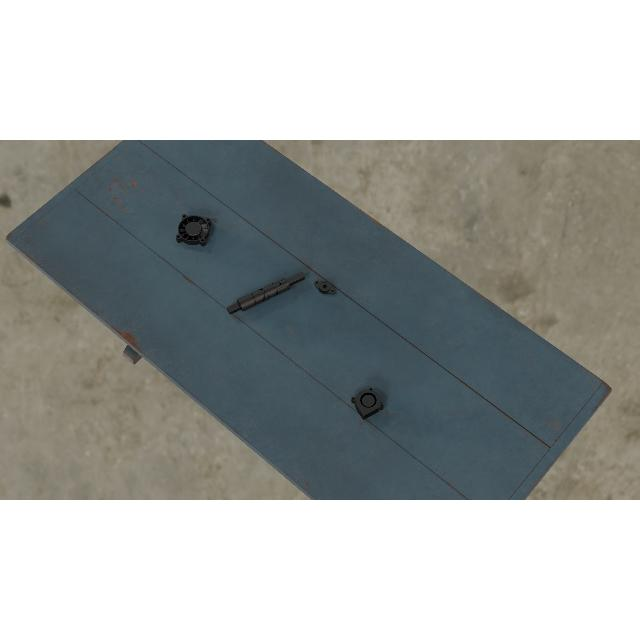Pieza1: (225, 267, 307, 319)
Pieza2: (312, 276, 338, 298)
Pieza3: (350, 385, 384, 421)
Pieza4: (175, 213, 213, 247)
